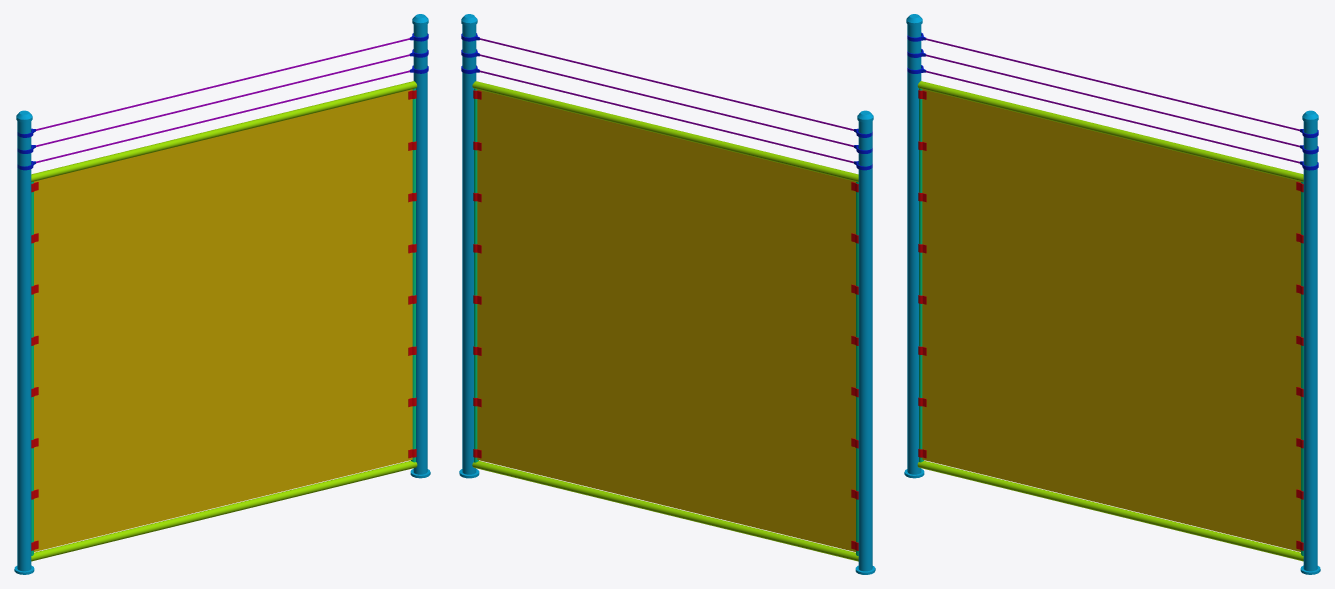
File: uploads_files_2866035_chainLinkFence_low.fbx
The picture shows the model from 3 angles, left to right: view 1: azimuth 30°, elevation 25°; view 2: azimuth 150°, elevation 25°; view 3: azimuth 330°, elevation 25°; orthographic projection.
Visible parts, largest first — view 1: chainLinkFence_low; view 2: chainLinkFence_low; view 3: chainLinkFence_low.
Part boxes in pixels (x1,y1,x2,y2): chainLinkFence_low: [14, 14, 430, 574]; chainLinkFence_low: [459, 14, 875, 574]; chainLinkFence_low: [904, 14, 1320, 574].
Size of the model in its own units: 321 by 340 by 13.35.
